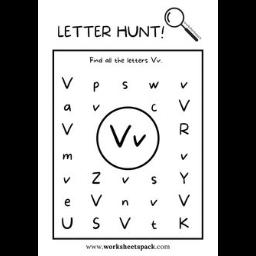v: (102, 118, 136, 150), (58, 74, 78, 96)
